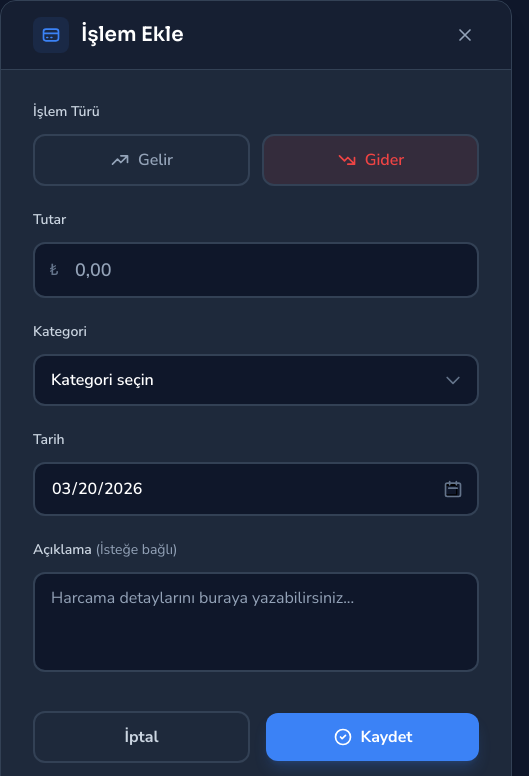
Test: TransactionForm › validates required amount field
The image size is (529, 776).
Submit without entering amount
Click the button "Kaydet".
click(372, 737)  # box [266,713,479,761]
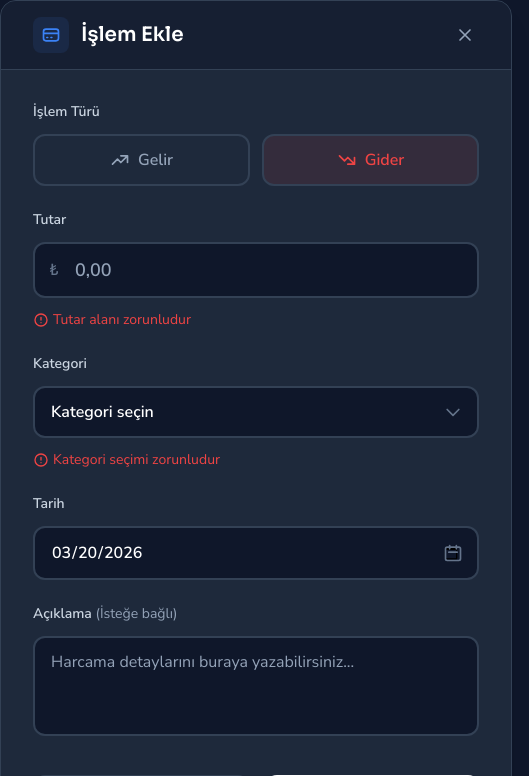
Now the text "Tutar alanı zorunludur" is shown, box [33,310,191,329]
